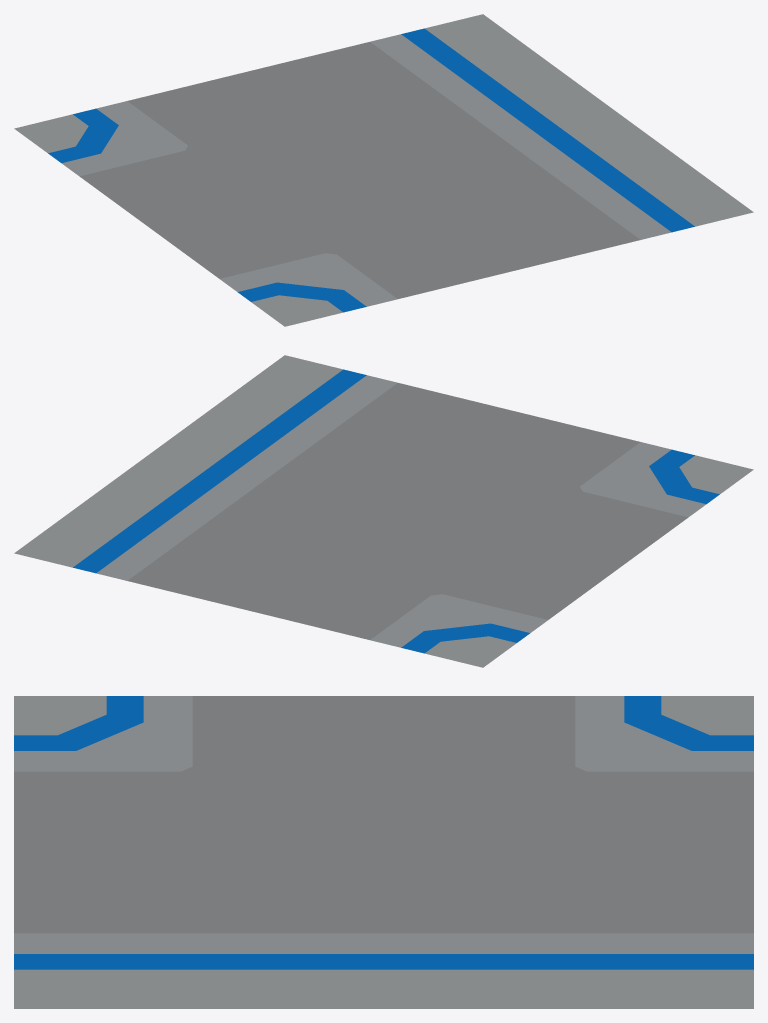
File: Ceiling_type_B_008.012.fbx
The picture shows the model from 3 angles, top to bottom: view 1: azimuth 30°, elevation 25°; view 2: azimuth 150°, elevation 25°; view 3: azimuth 270°, elevation 25°; orthographic projection. The views are drawn at different scales.
Visible parts, largest first — view 1: Ceiling_type_B_008.012; view 2: Ceiling_type_B_008.012; view 3: Ceiling_type_B_008.012.
Boxes of the visible parts, bbox=[...] form: Ceiling_type_B_008.012: bbox=[14, 14, 753, 326]; Ceiling_type_B_008.012: bbox=[14, 355, 753, 667]; Ceiling_type_B_008.012: bbox=[14, 696, 753, 1008].
Size of the model in its own units: 400 by 400 by 4.55.
